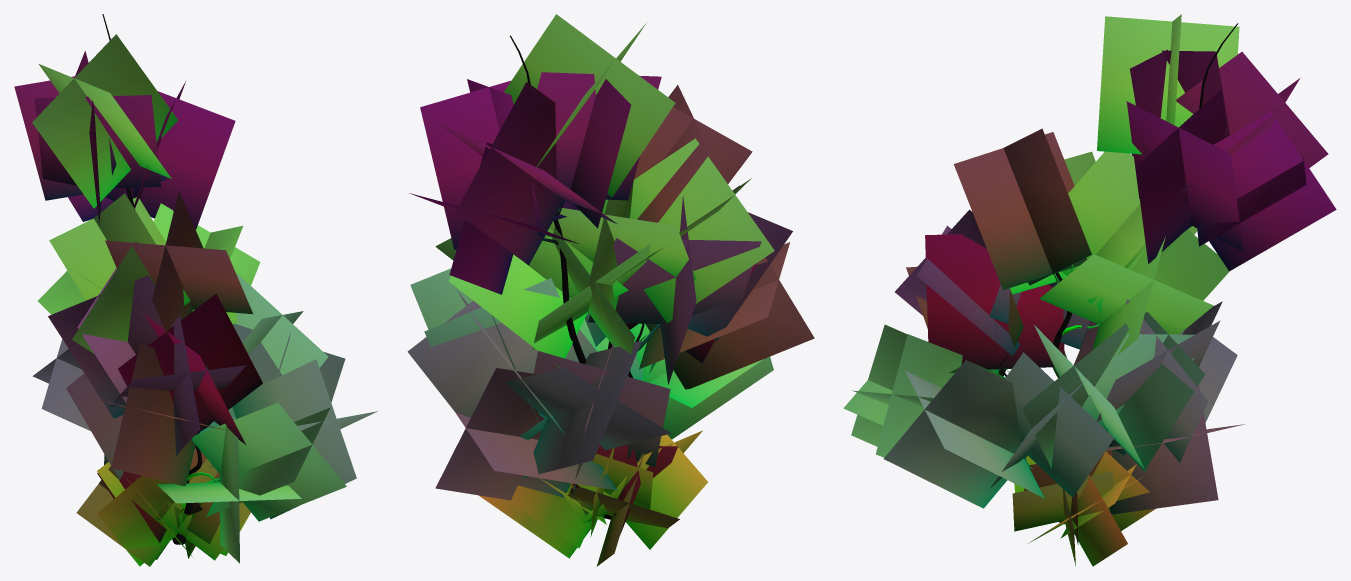
File: URP_P12_Tree_12_LOD_0.fbx
3 renders of one model, left to right at view 1: azimuth 30°, elevation 25°; view 2: azimuth 150°, elevation 25°; view 3: azimuth 270°, elevation 25°, orthographic. The views are drawn at different scales.
Parts seen in each view (by area): view 1: Tree_12_LOD_0; view 2: Tree_12_LOD_0; view 3: Tree_12_LOD_0.
Part boxes in pixels (x1,y1,x2,y2): Tree_12_LOD_0: (14, 14, 377, 566); Tree_12_LOD_0: (407, 14, 814, 566); Tree_12_LOD_0: (843, 14, 1336, 566).
Size of the model in its own units: 168 by 294 by 245.
